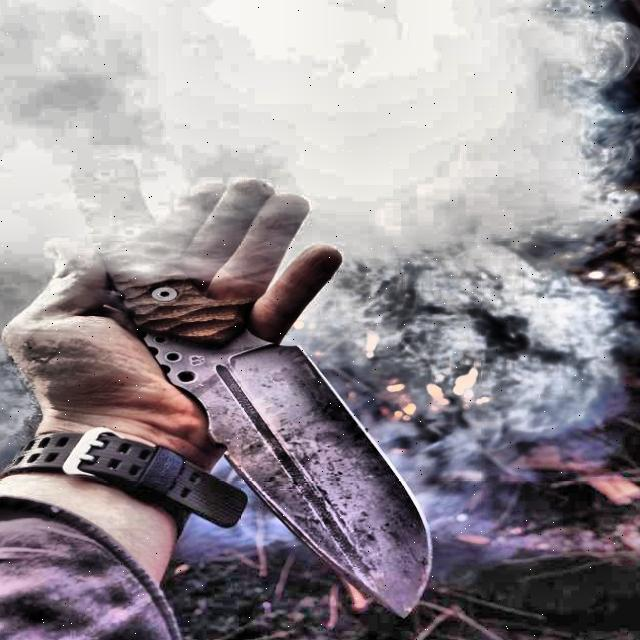knife: (104, 226, 443, 624)
